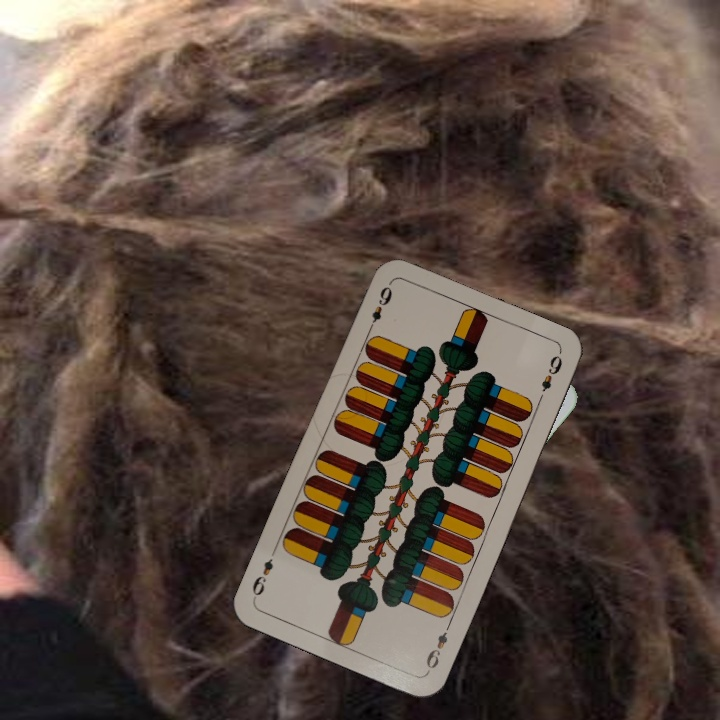E9: (422, 619, 454, 675), (363, 279, 395, 335)
